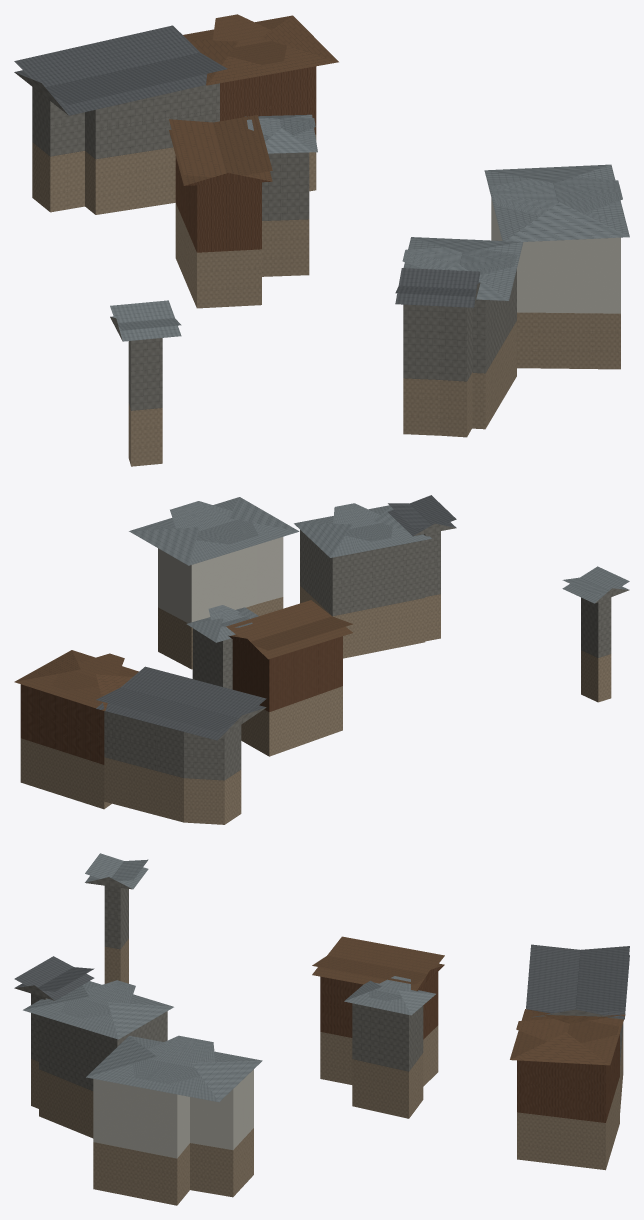
Rendered from bld_c35_-29_447.gltf.
The picture shows the model from 3 angles, top to bottom: view 1: azimuth 30°, elevation 25°; view 2: azimuth 150°, elevation 25°; view 3: azimuth 270°, elevation 25°; orthographic projection. The views are drawn at different scales.
Visible parts, largest first — view 1: bld_c35_-29_447; view 2: bld_c35_-29_447; view 3: bld_c35_-29_447.
Part boxes in pixels (x1,y1,x2,y2): bld_c35_-29_447: [14, 14, 629, 466]; bld_c35_-29_447: [14, 495, 629, 824]; bld_c35_-29_447: [14, 853, 629, 1205].
Size of the model in its own units: 53.55 by 14.4 by 60.44.
Materials: 9 (9 with a texture image).
